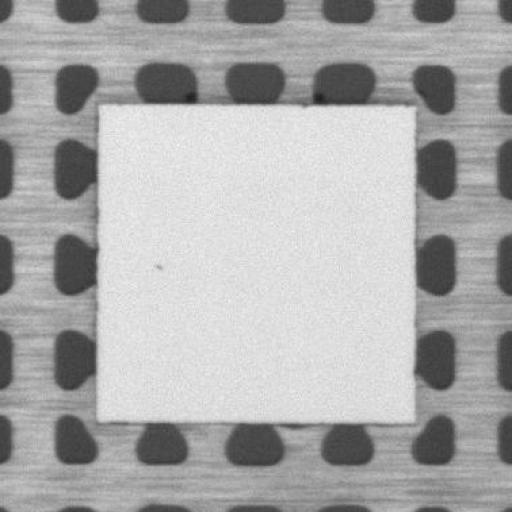DIE_INK: (150, 258, 166, 274)
